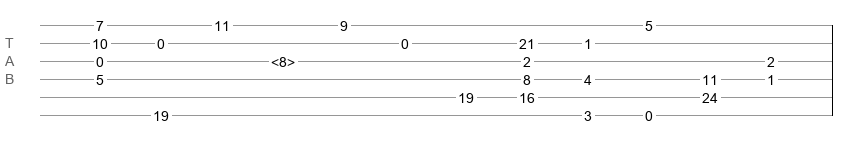0: (96, 54, 104, 64), (157, 36, 165, 46), (401, 36, 409, 46), (645, 108, 653, 118)
1: (584, 36, 592, 46), (767, 72, 775, 82)
10: (92, 36, 108, 46)
11: (214, 18, 230, 28), (702, 72, 718, 82)
16: (519, 90, 535, 100)
19: (153, 108, 169, 118), (458, 90, 474, 100)
2: (523, 54, 531, 64), (767, 54, 775, 64)
21: (519, 36, 535, 46)
24: (702, 90, 718, 100)
3: (584, 108, 592, 118)
4: (584, 72, 592, 82)
5: (96, 72, 104, 82), (645, 18, 653, 28)
7: (96, 18, 104, 28)
8: (523, 72, 531, 82)
9: (340, 18, 348, 28)
harmonic: (271, 54, 295, 64)
